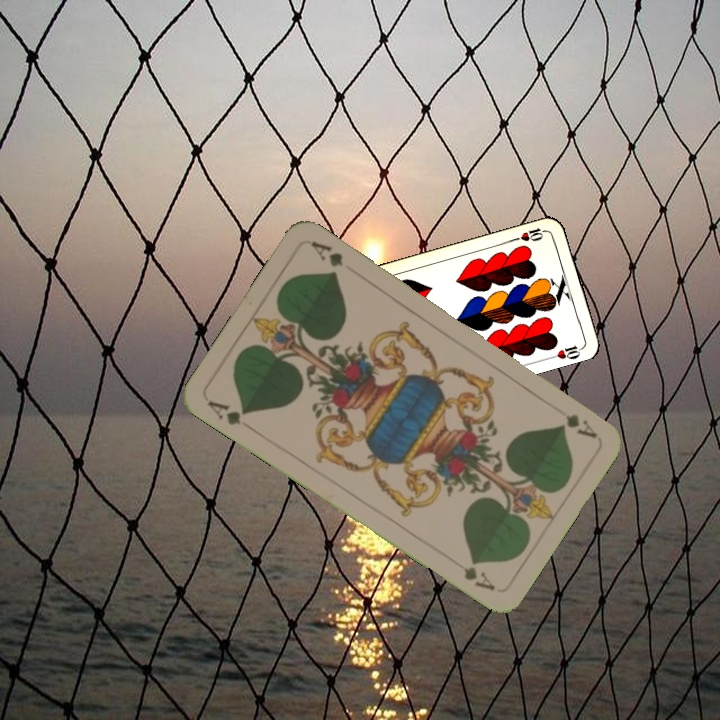GA: (203, 396, 250, 428), (561, 409, 600, 441)
H10: (510, 223, 550, 244)
